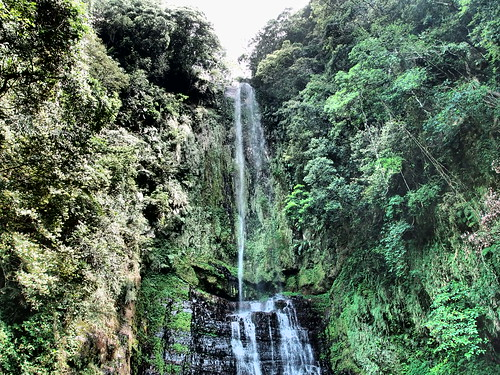wufengciWaterfall: (152, 73, 359, 372)
